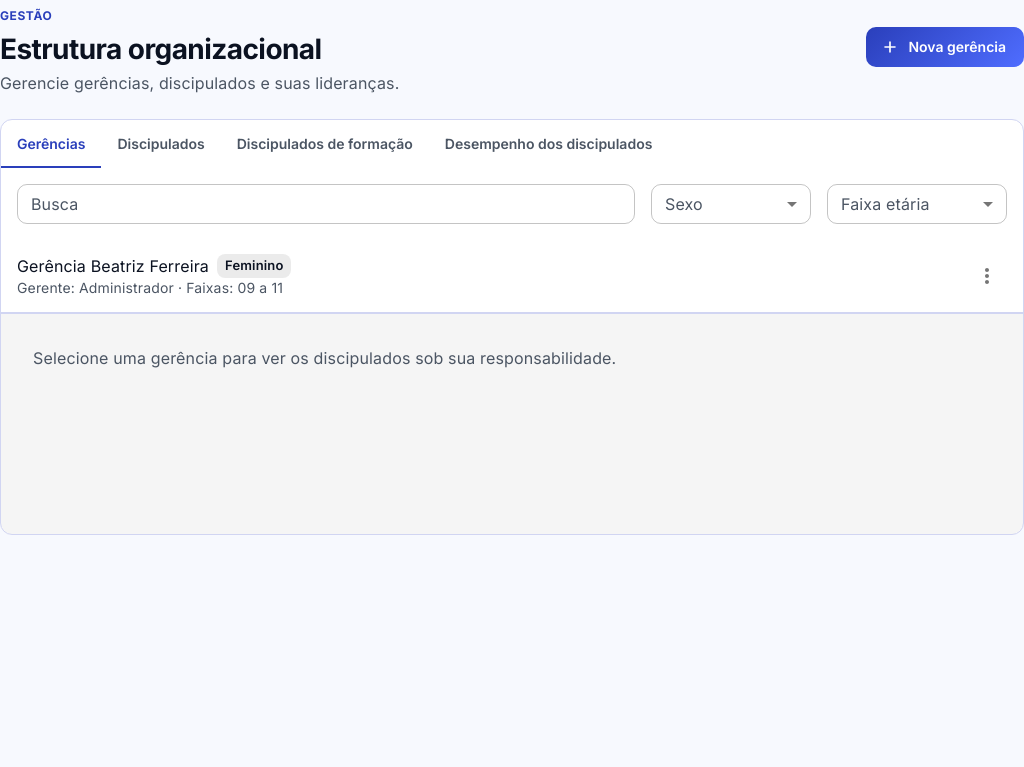
Scenario: estrutura — desempenho dos discipulados › exibe seletor com nome e discipulador e tabela por categoria
Expected: the button "Nova gerência" is shown, [866, 28, 1023, 68]
What coordinates should you click on to do the following:
click the tab "Desempenho dos discipulados"
I would click on:
 (549, 144)
Its box is [429, 120, 668, 168].
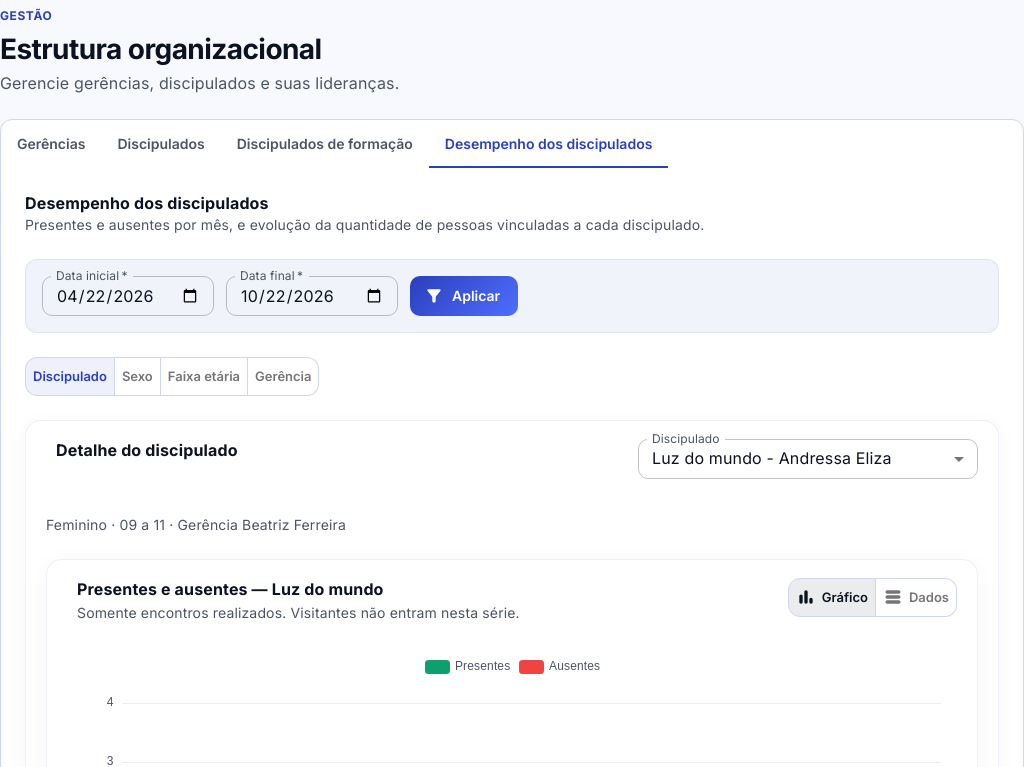
Now the heading "Desempenho dos discipulados" is shown, box [25, 193, 269, 213]
Now the button "Nova" is gone
What coordinates should you click on to do the following:
click the dropdown named "Discipulado"
I would click on:
 (772, 458)
Its box is [652, 448, 892, 468].
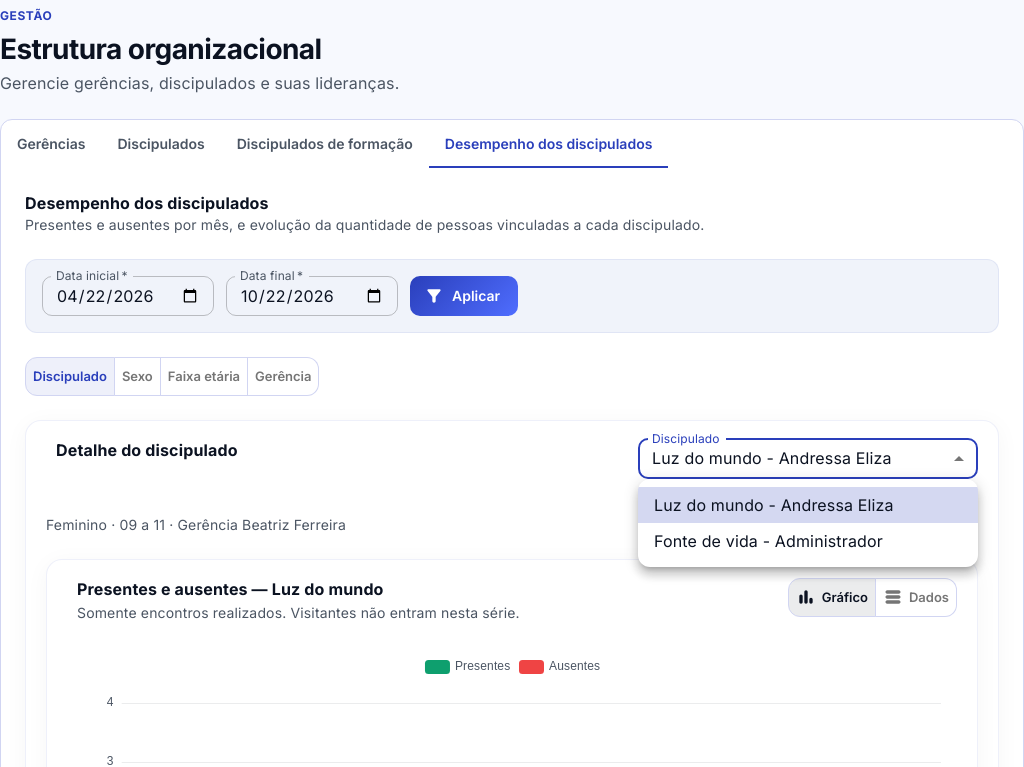
Now the option "Luz do mundo - Andressa Eliza" is shown, box [638, 487, 978, 523]
What coordinates should you click on to do the following:
click the option "Fonte de vida - Administrador"
I would click on:
 (768, 541)
Its box is [654, 531, 883, 551].
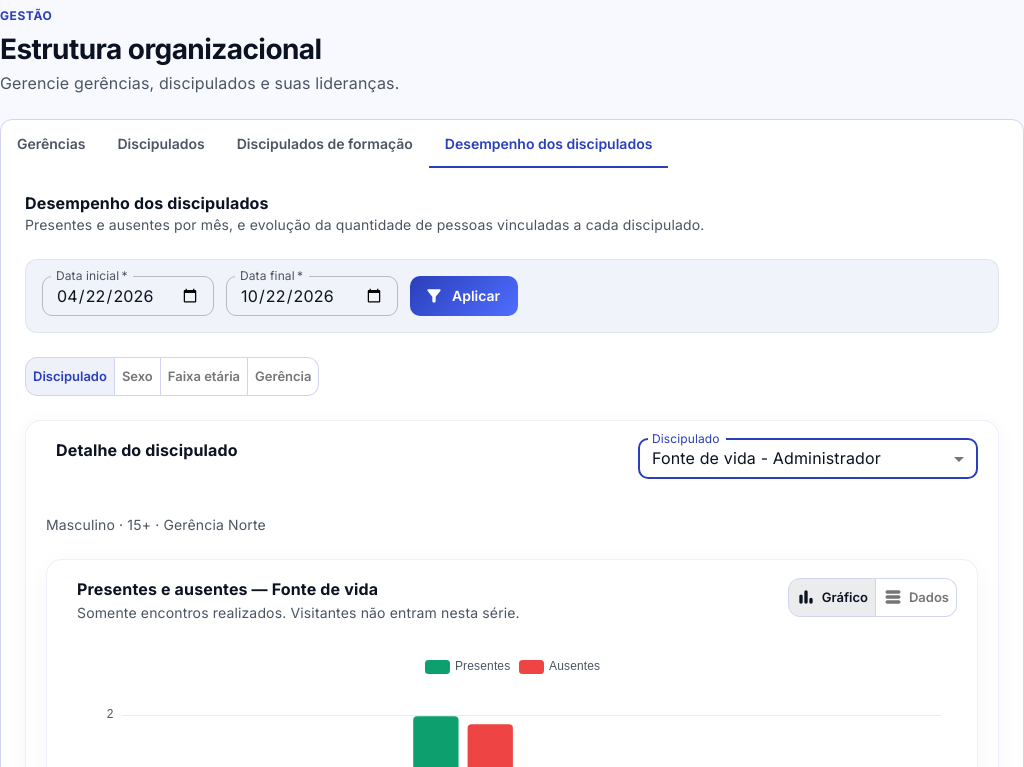
Now the heading "Presentes e ausentes — Fonte de vida" is shown, box [77, 579, 378, 599]
What coordinates should you click on to do the following:
click the button "Dados"
I would click on:
 (916, 597)
Its box is [875, 578, 957, 617].
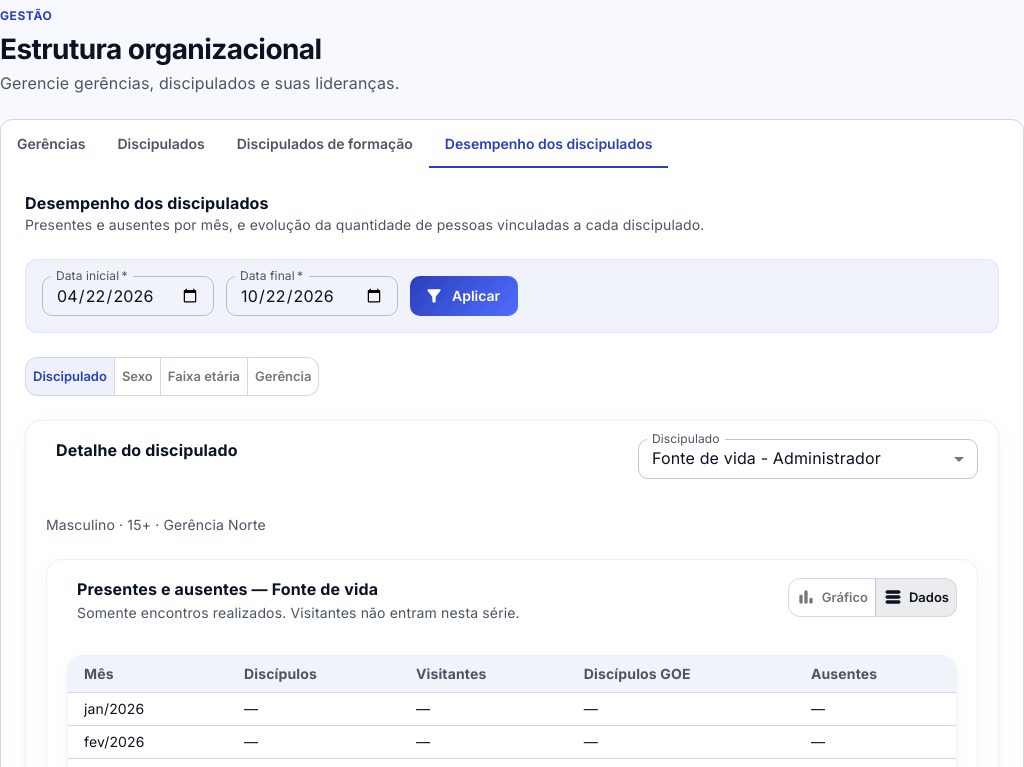
Now the column heading "Discípulos" is shown, box [228, 656, 400, 693]
Now the column heading "Visitantes" is shown, box [400, 656, 568, 693]
Now the column heading "Discípulos GOE" is shown, box [568, 656, 795, 693]
